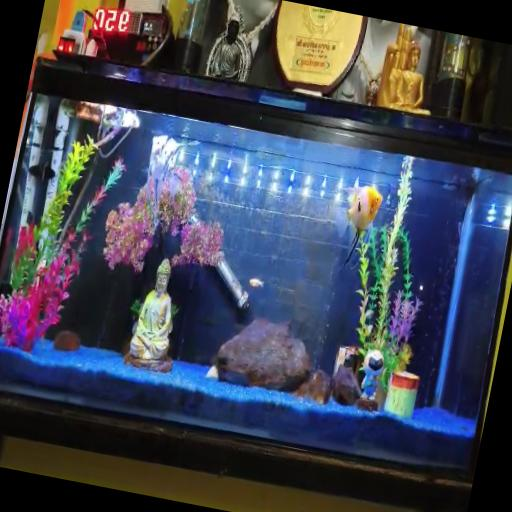Fish: (334, 178, 381, 268), (249, 278, 262, 288)
